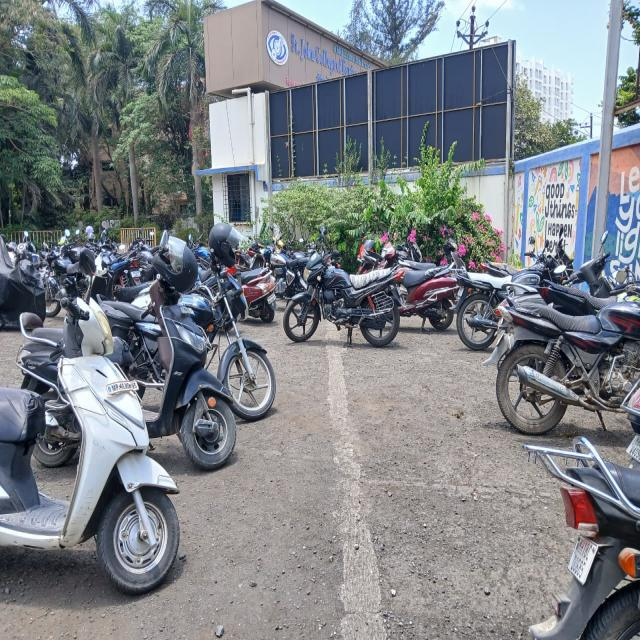Legalparking: (5, 197, 270, 626), (456, 243, 640, 640)
illegalparking: (287, 227, 430, 397)
